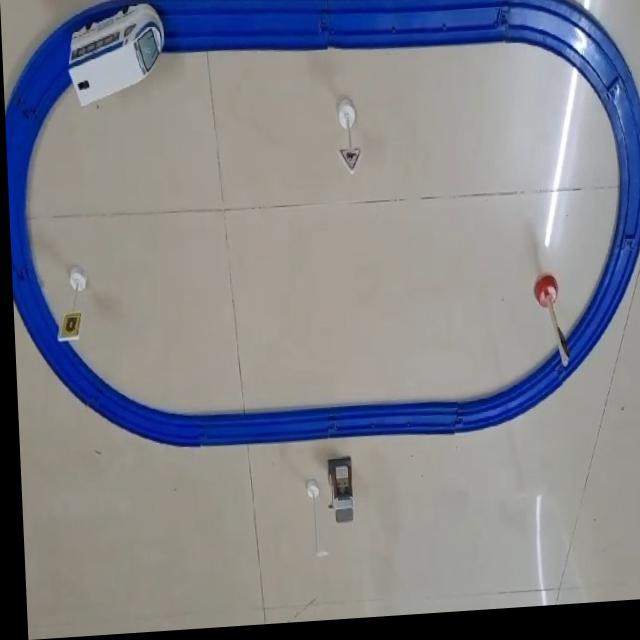bus: (64, 5, 166, 110)
